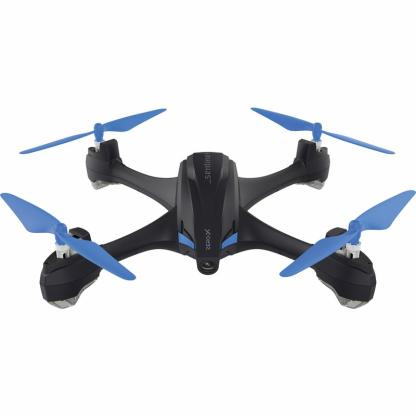drone: (9, 111, 414, 314)
